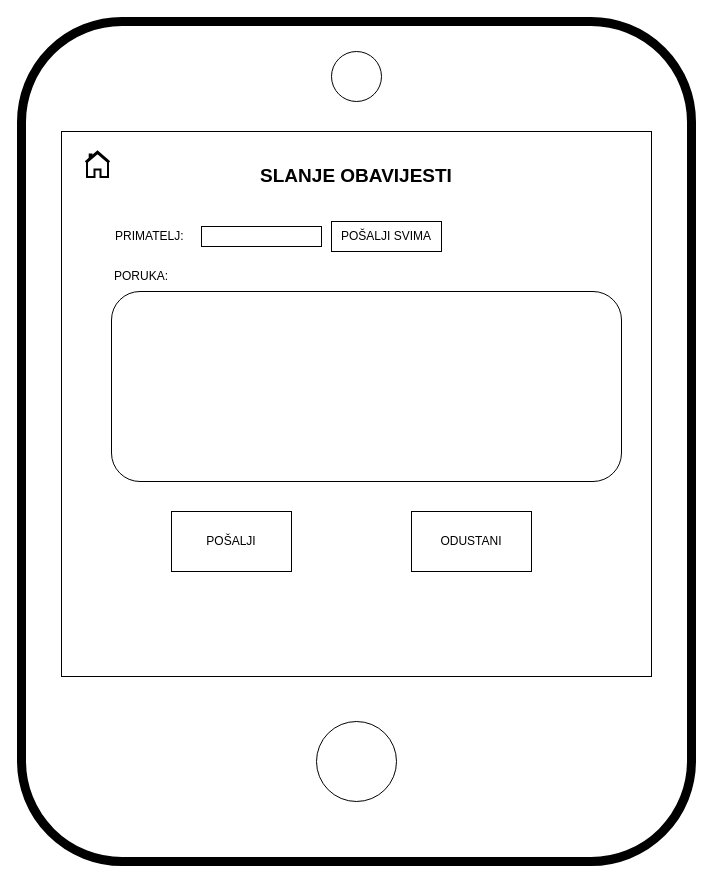
The diagram is 713 pixels wide and 883 high, and some of its shapes have lost their labels. Each missing label, with the centre of its shape:
Lorem ipsum dolor sit amet...: pixel 366 386
username...: pixel 261 236
